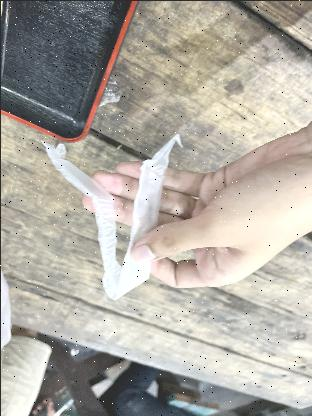Others: (43, 130, 183, 298)
